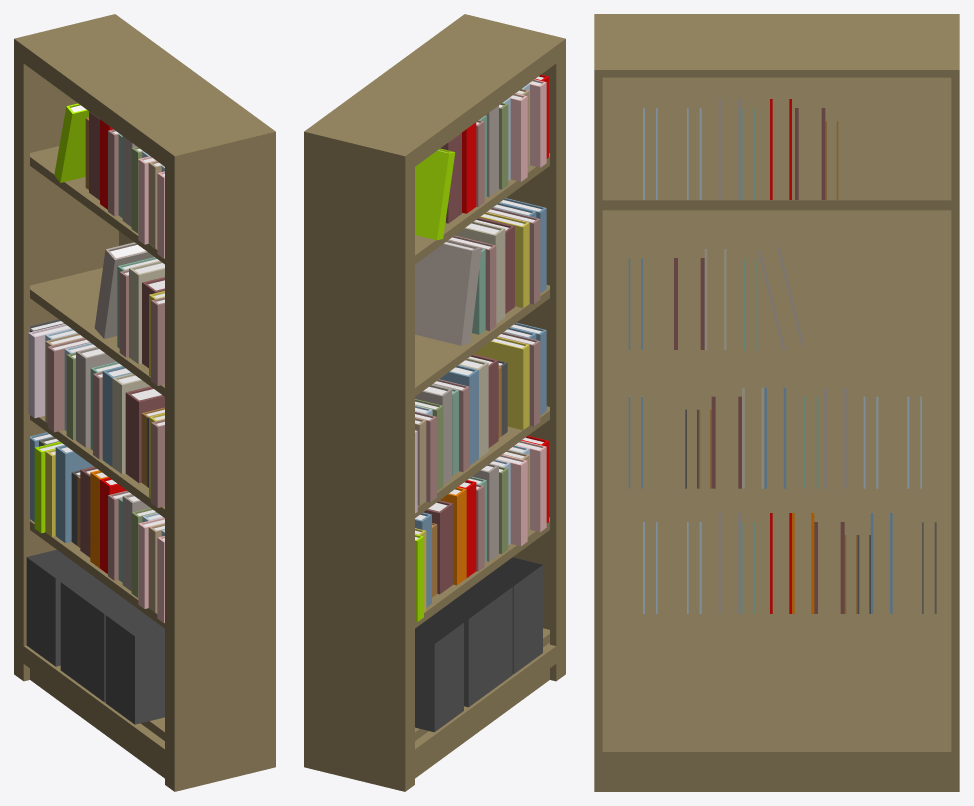
Rendered from BookShelf.glb.
The picture shows the model from 3 angles, left to right: view 1: azimuth 30°, elevation 25°; view 2: azimuth 150°, elevation 25°; view 3: azimuth 270°, elevation 25°; orthographic projection. The views are drawn at different scales.
Visible parts, largest first — view 1: Bookcase_004, Group_002, Shelf_013, book#2_032.001, book#3_092.001, book#2_027, book#2_039, book#2_032, book#3_069, book#3_074, Shelf_014, book#2_030.001 (+32 smaller); view 2: Bookcase_004, Group_002, book#2_032.001, Shelf_013, book#3_092.001, book#3_072, Shelf_014, book#2_037, book#3_096, Shelf_015, book#2_030.001, book#3_085 (+32 smaller); view 3: Bookcase_004, book#2_027, book#2_027.001, book#2_037, book#2_037.001, book#2_032, book#2_030, book#2_031, book#2_030.001, book#2_033, book#2_033.001, book#2_035 (+1 smaller).
Boxes of the visible parts, x1,y1,x2,y2 form: Bookcase_004: [14, 14, 275, 791]; Group_002: [26, 549, 164, 724]; Shelf_013: [30, 268, 164, 396]; book#2_032.001: [94, 242, 153, 338]; book#3_092.001: [54, 103, 88, 182]; book#2_027: [125, 386, 164, 482]; book#2_039: [55, 445, 93, 543]; book#2_032: [76, 347, 116, 447]; book#3_069: [28, 324, 70, 418]; book#3_074: [47, 338, 90, 432]; Shelf_014: [30, 415, 164, 517]; book#2_030.001: [129, 260, 164, 364]; Bookcase_004: [304, 14, 565, 791]; Group_002: [415, 557, 542, 732]; book#2_032.001: [415, 240, 481, 345]; Shelf_013: [415, 285, 549, 396]; book#3_092.001: [415, 148, 455, 240]; book#3_072: [474, 337, 529, 429]; Shelf_014: [415, 406, 549, 517]; book#2_037: [423, 500, 453, 594]; book#3_096: [496, 454, 527, 546]; Shelf_015: [415, 517, 549, 628]; book#2_030.001: [455, 221, 505, 323]; book#3_085: [515, 440, 546, 532]; Bookcase_004: [594, 14, 959, 791]; book#2_027: [711, 396, 741, 488]; book#2_027.001: [674, 258, 704, 349]; book#2_037: [814, 522, 844, 613]; book#2_037.001: [795, 108, 825, 199]; book#2_032: [824, 387, 846, 488]; book#2_030: [742, 387, 764, 488]; book#2_031: [764, 387, 786, 488]; book#2_030.001: [704, 249, 726, 349]; book#2_033: [718, 513, 740, 613]; book#2_033.001: [718, 99, 740, 199]; book#2_035: [792, 513, 814, 613].
Bounding box in the file's own units: 0.6978 × 3.86 × 1.77.
